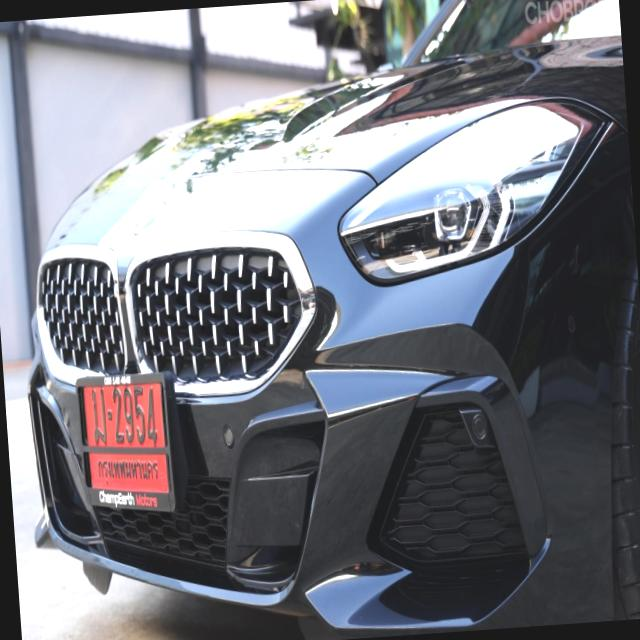license_plate: (62, 360, 196, 530)
